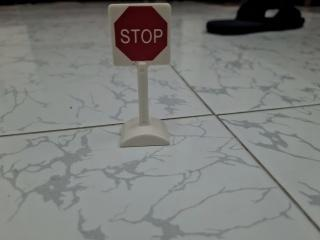stop: (99, 0, 184, 76)
